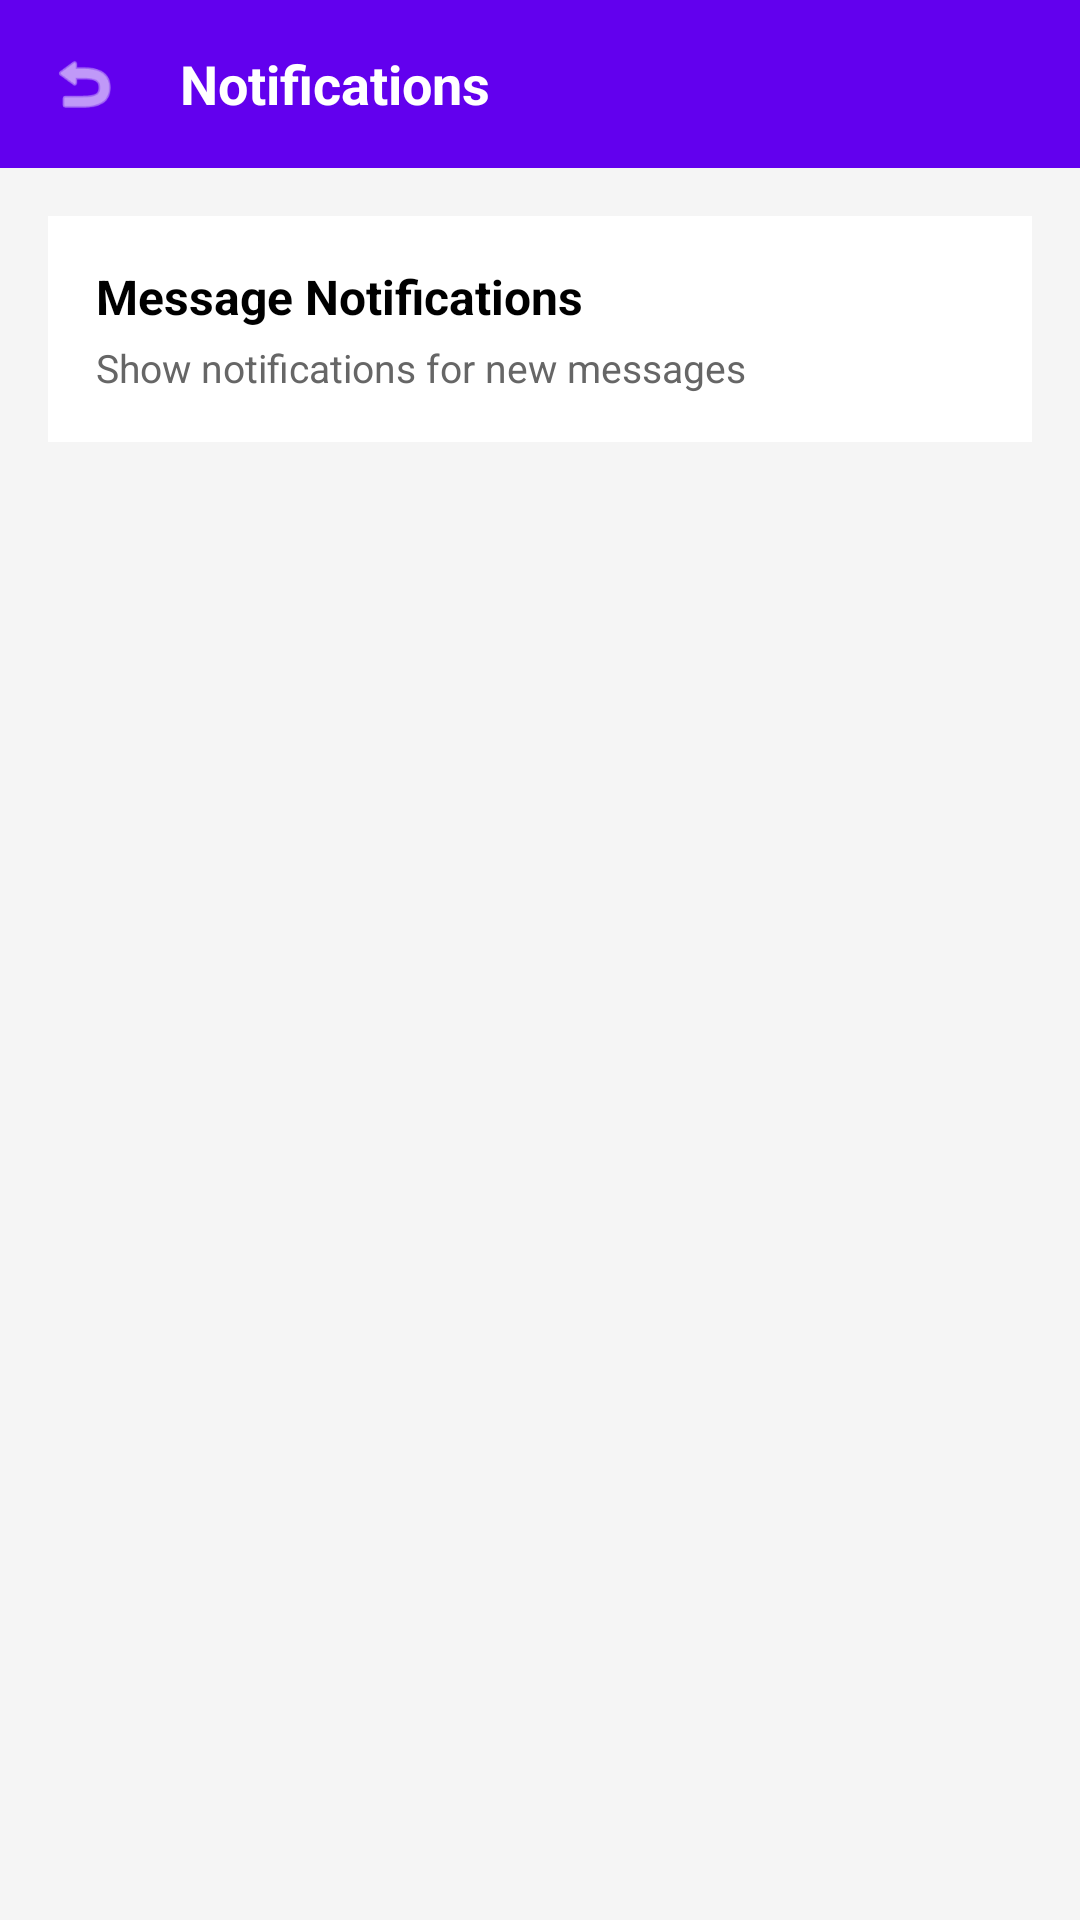

Screen size 1080px x 1920px. Icon name, then its box in pixels as (x1, y1, x2, y2):
Back: (59, 61, 111, 108)
